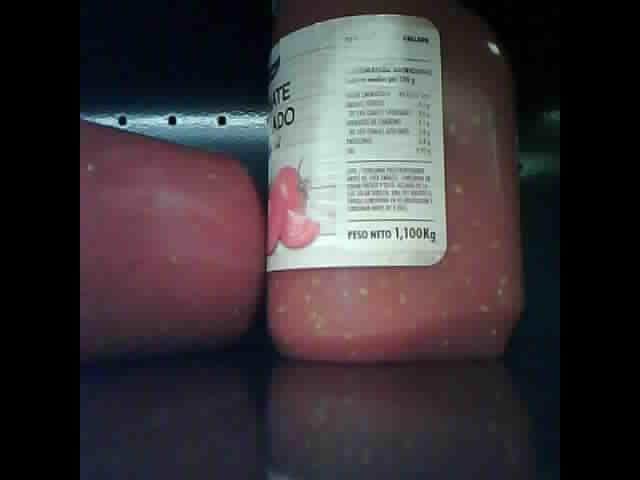tomate: (269, 7, 524, 358), (79, 119, 268, 357)
